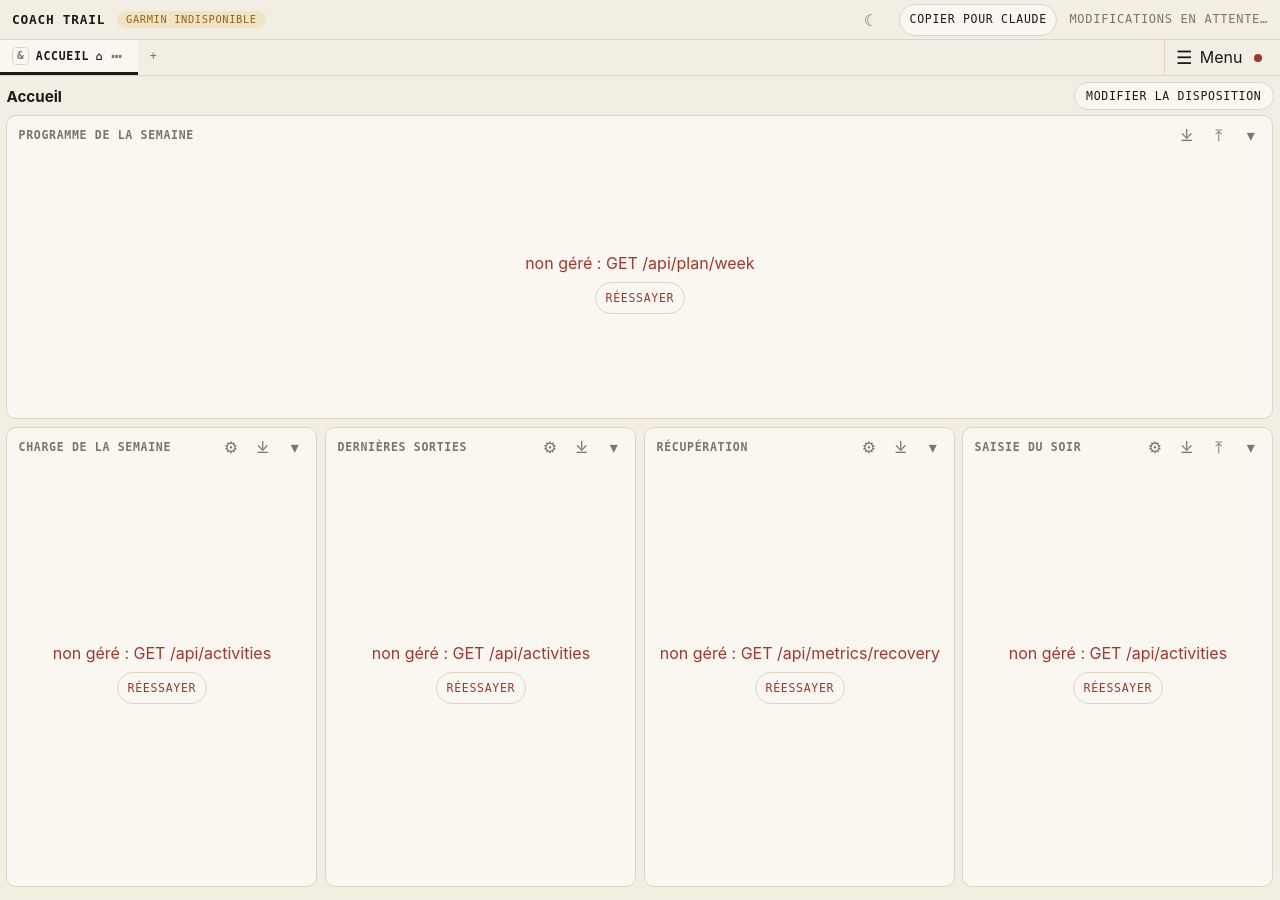
Test: Menu de navigation › regroupe pages et outils, sans Calendrier, et signale une source en panne
Expected: the heading "Accueil" is shown, 6,86 -> 62,107
Click the button "☰ Menu": (1219, 58) 1164,40 -> 1274,75
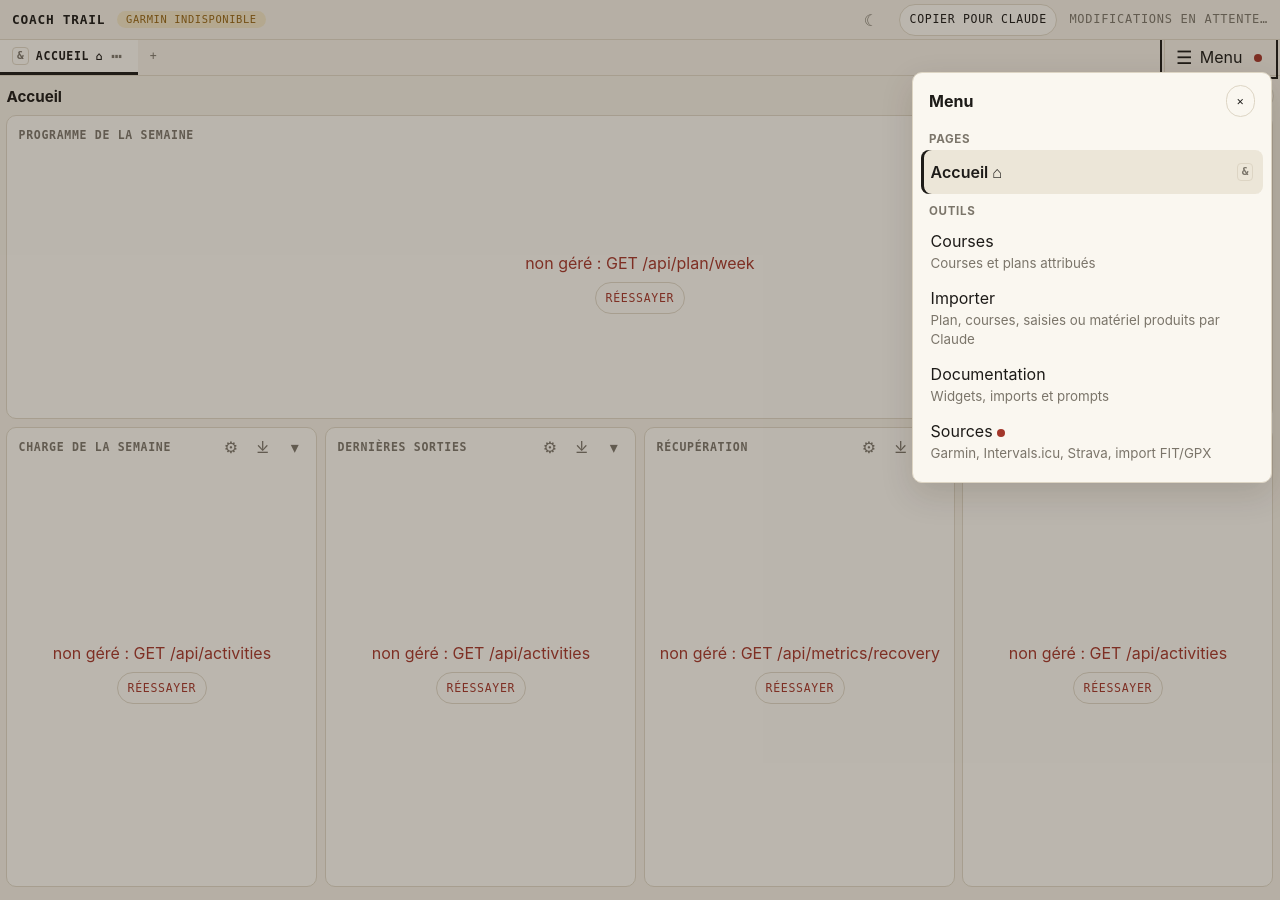
Now the link "Courses Courses et plans attribués" is shown, box 931,231 -> 1096,271
Now the link "Importer" is shown, box 931,288 -> 1220,347
Now the link "Documentation Widgets, imports et prompts" is shown, box 931,364 -> 1109,404
